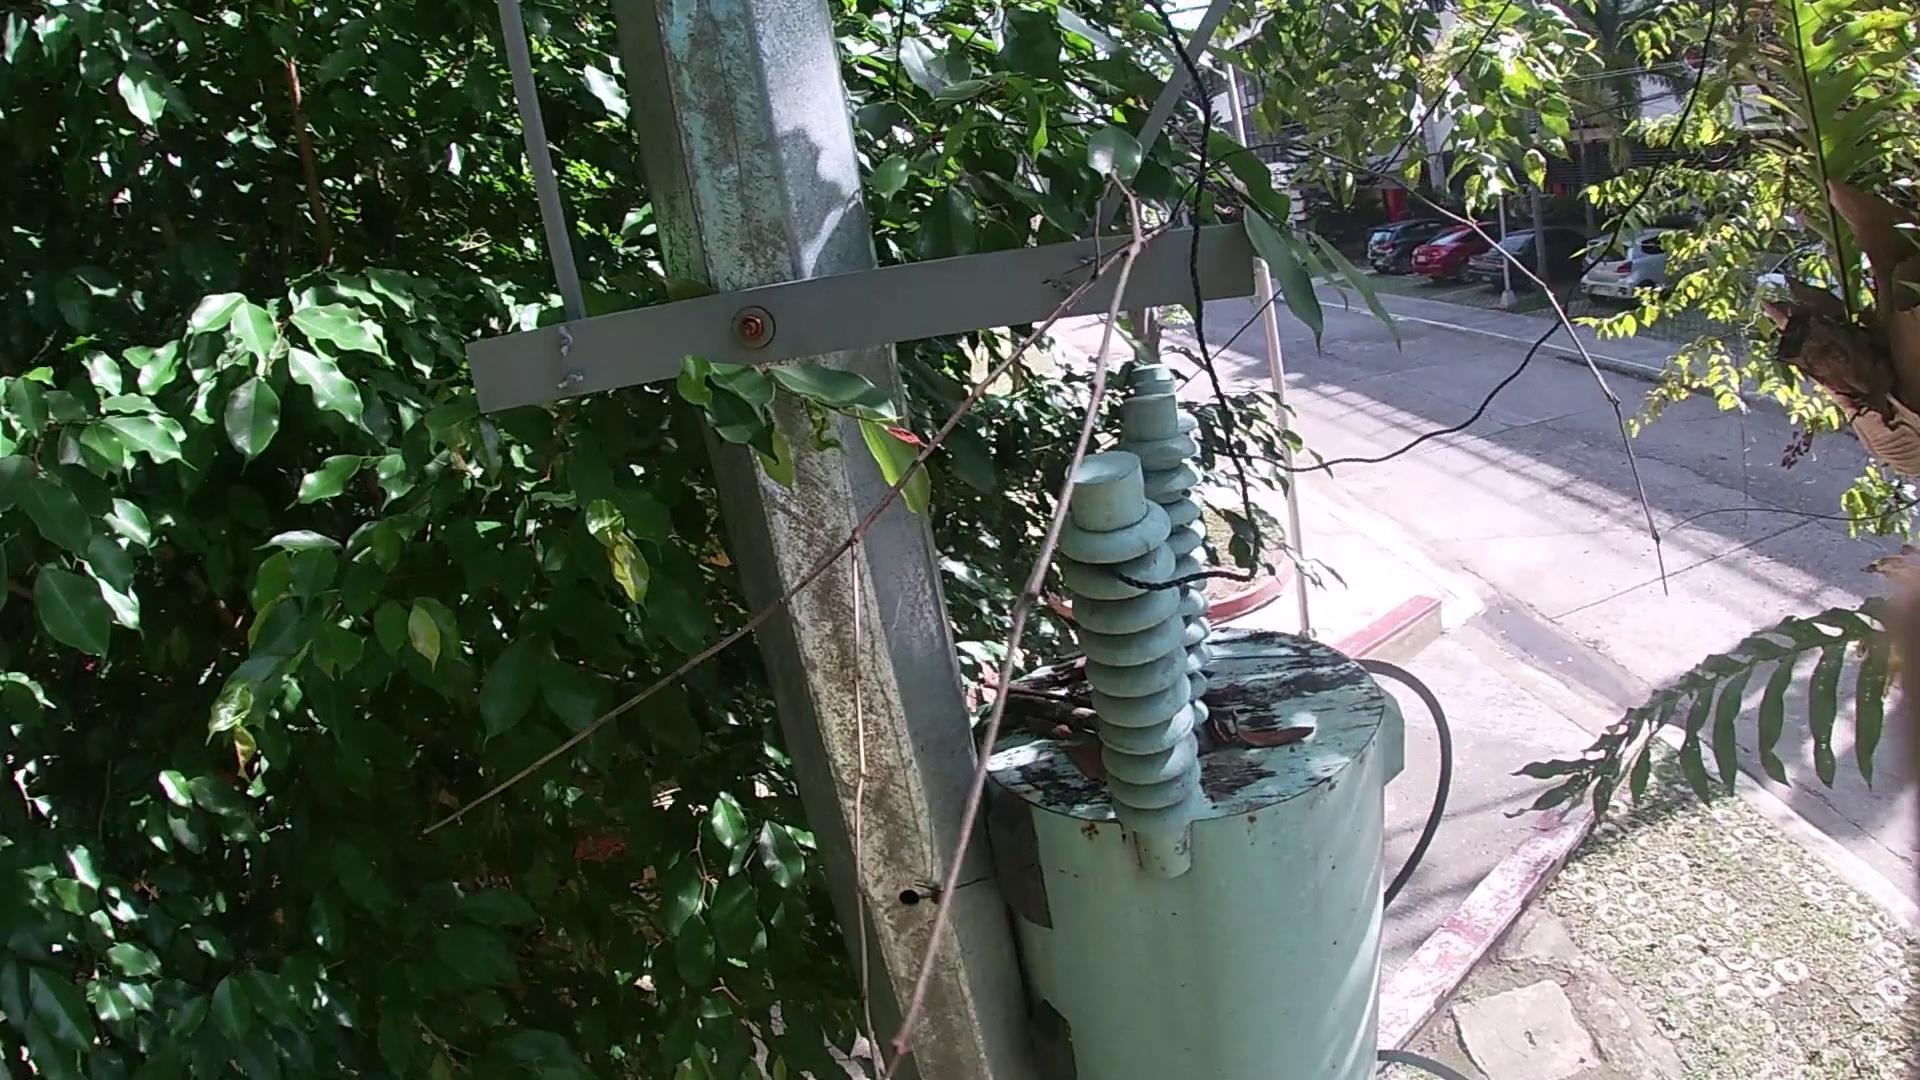leaf: (1230, 709, 1319, 750), (1050, 738, 1112, 789), (1021, 711, 1073, 740)
tree branch: (394, 131, 1677, 1077), (980, 673, 1102, 732), (1207, 591, 1284, 634)
